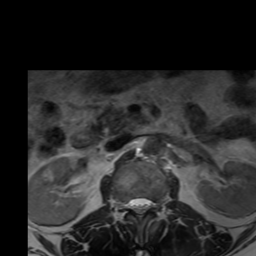CCS_normal: (135, 191, 143, 224)
LFS_stenosis: (151, 191, 159, 216)
LLS_normal: (143, 189, 151, 217)
RFS_stenosis: (120, 192, 127, 217)
RLS_normal: (127, 189, 135, 219)
